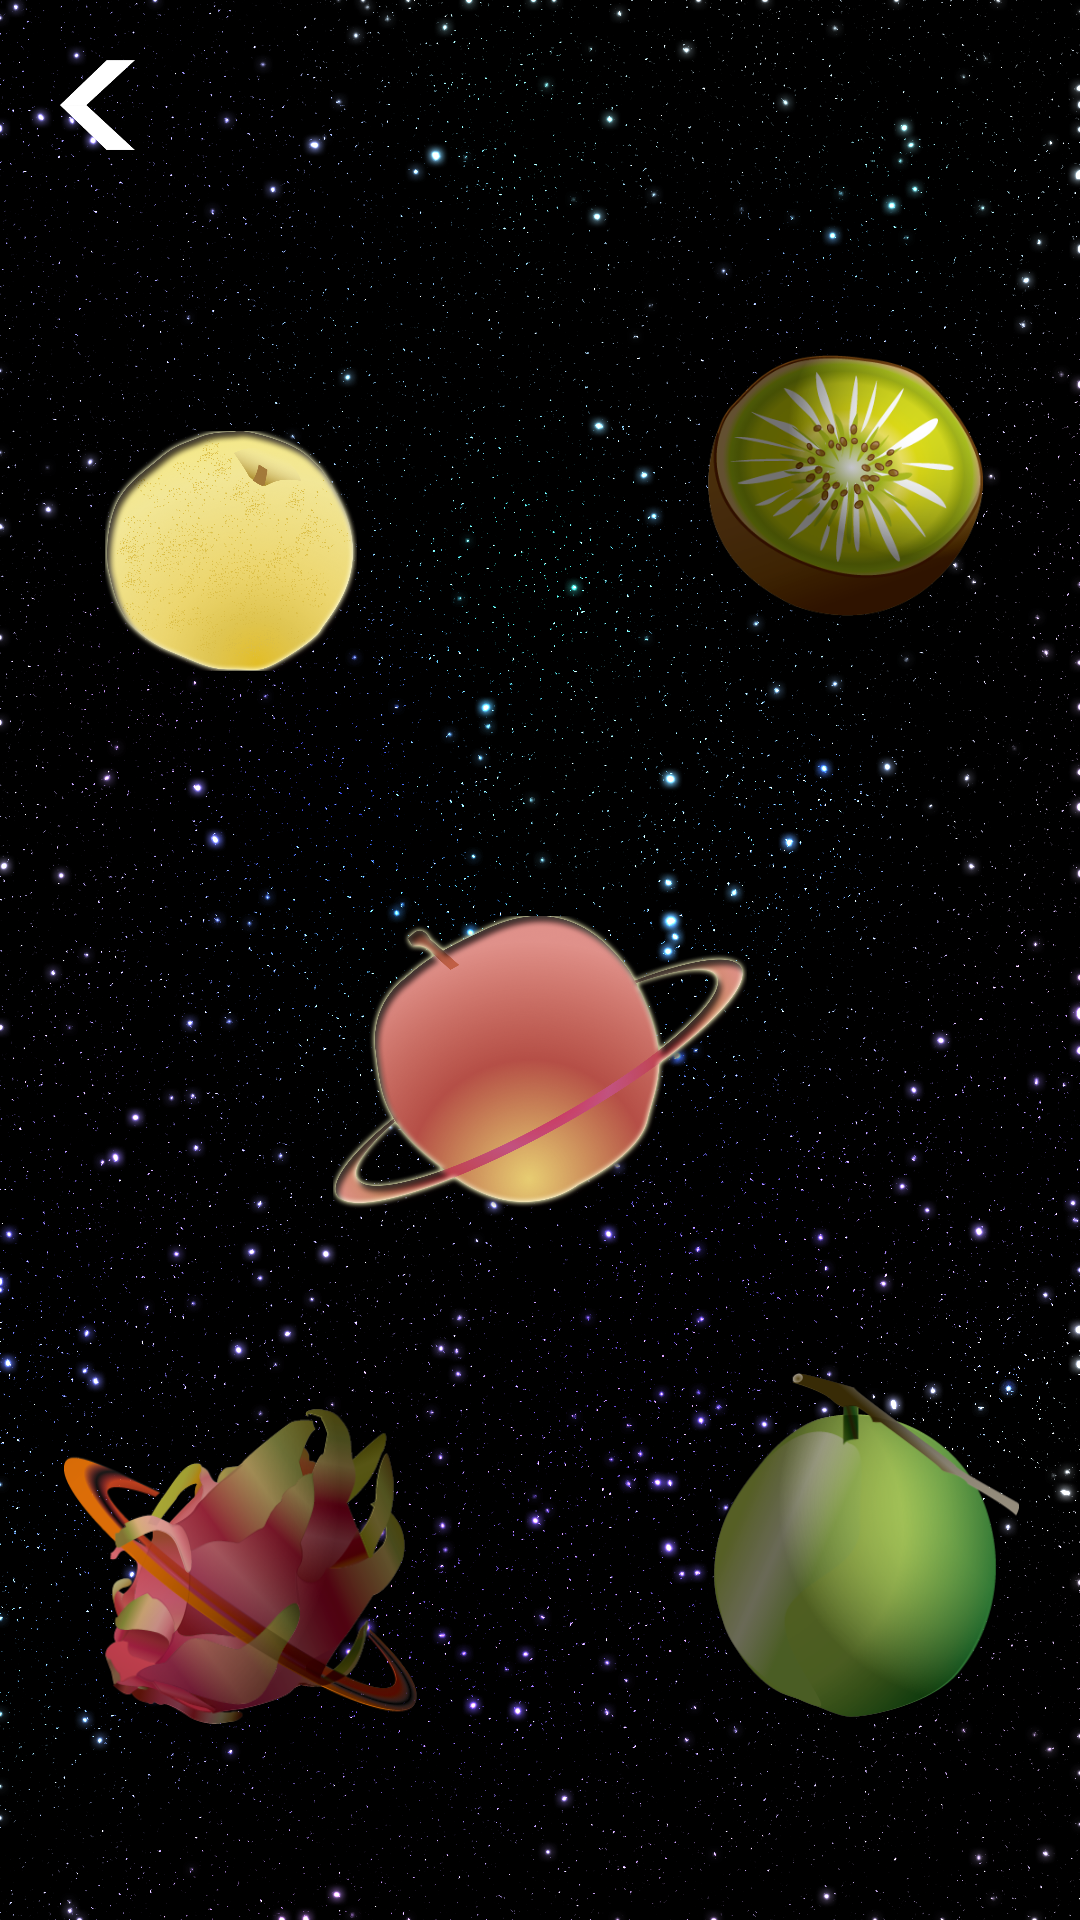

Icon bounding boxes for this 1080*1920 phone screenshot, format detection(x1, y1, x2, y2):
back: detection(60, 60, 135, 150)
guava: detection(711, 1373, 1020, 1718)
kiwi: detection(708, 355, 984, 616)
pear: detection(105, 431, 357, 671)
pitaya: detection(64, 1409, 418, 1724)
